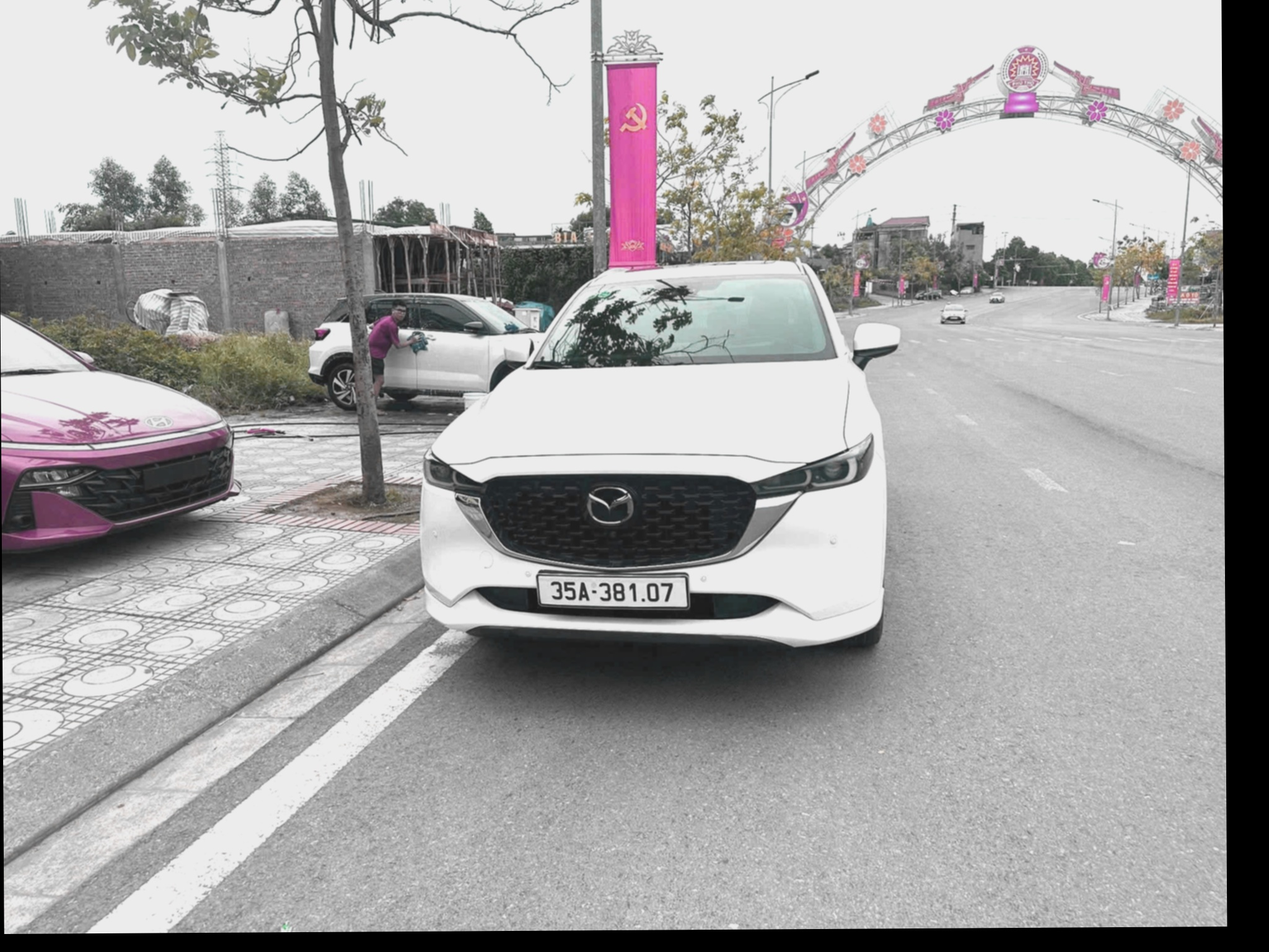Bien-so: (577, 580, 732, 627)
